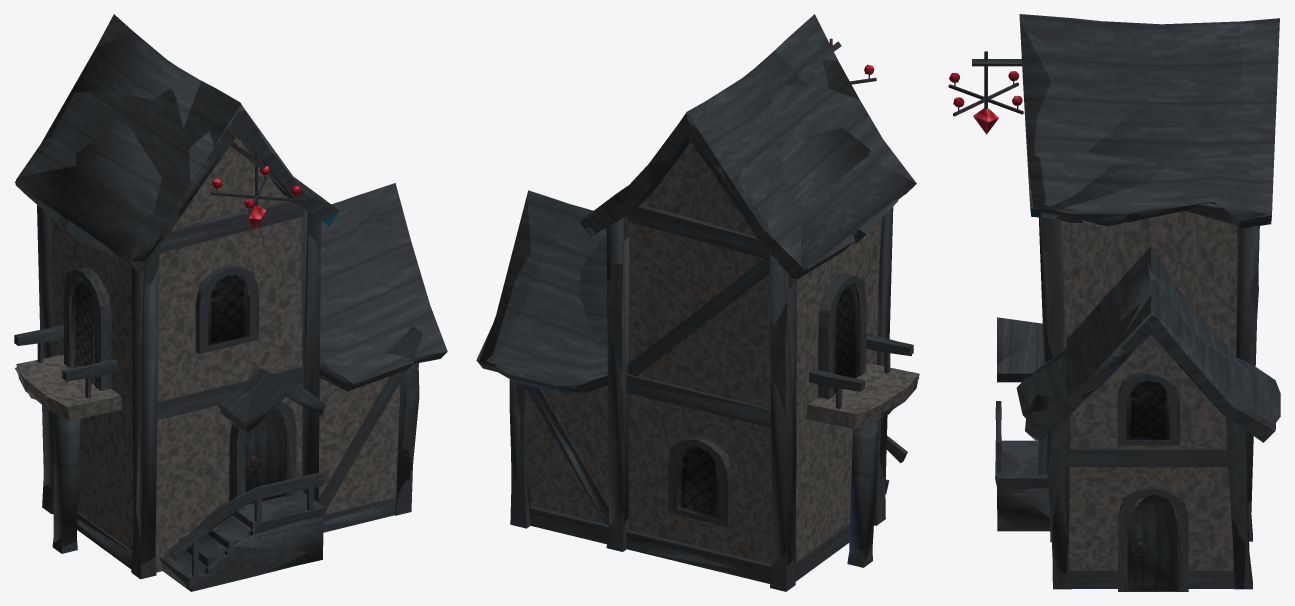
Rendered from HouseB.fbx.
3 renders of one model, left to right at view 1: azimuth 30°, elevation 25°; view 2: azimuth 150°, elevation 25°; view 3: azimuth 270°, elevation 25°, orthographic. The views are drawn at different scales.
Visible parts, largest first — view 1: HouseB, HouseBLowPoly; view 2: HouseB, HouseBLowPoly; view 3: HouseB, HouseBLowPoly.
Part boxes in pixels (x1,y1,x2,y2): HouseB: (14,14,447,591); HouseBLowPoly: (15,31,439,588); HouseB: (476,14,919,591); HouseBLowPoly: (479,50,919,577); HouseB: (948,14,1280,591); HouseBLowPoly: (948,20,1279,591).
Size of the model in its own units: 12.01 by 14.82 by 9.27.
